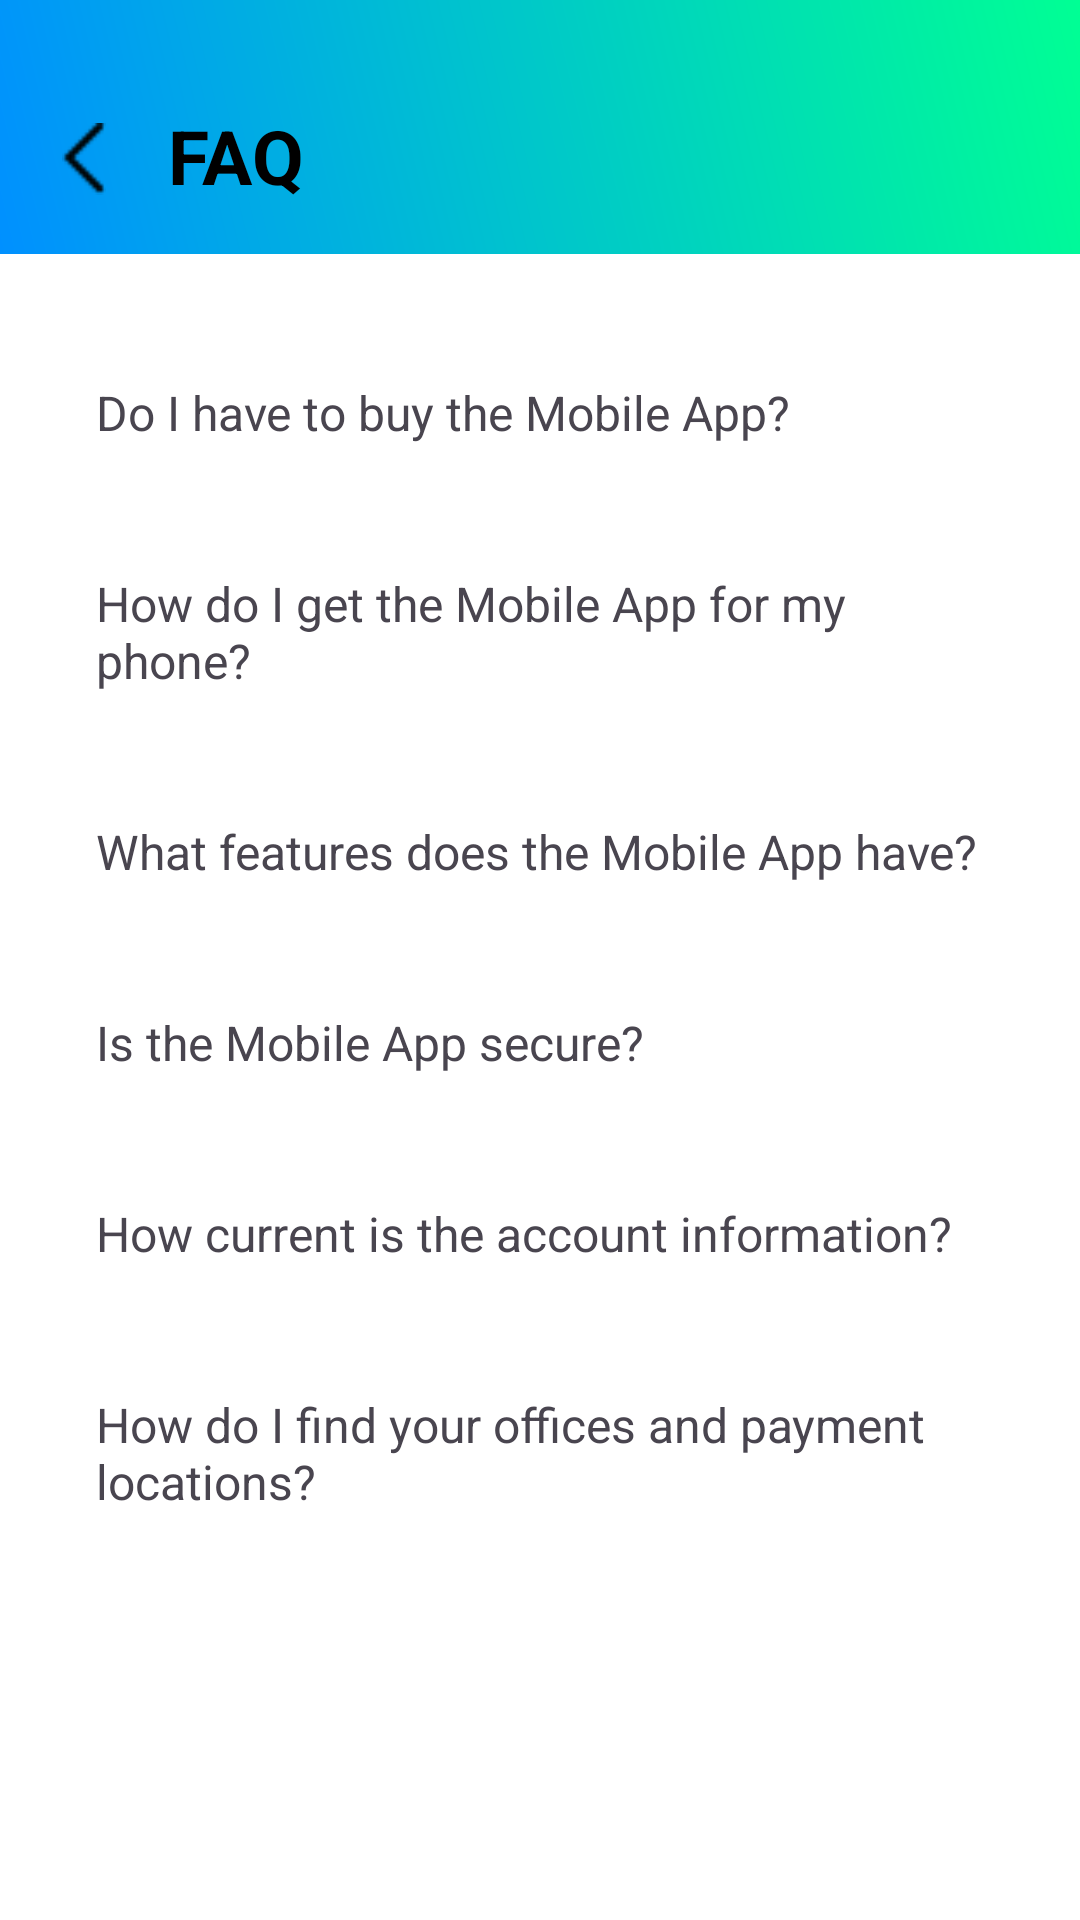

Where to tap for icons on this 1080px×1920px app screen, as (x,y):
back: (83,158)
